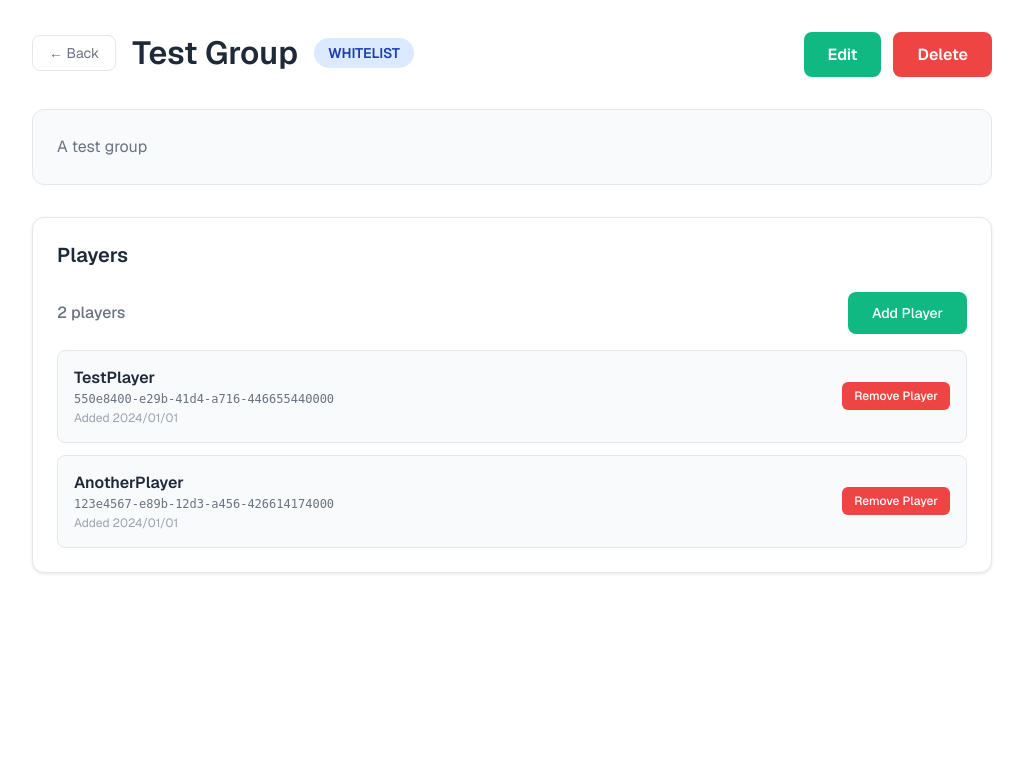
Test case: GroupDetailPage › Group Editing › should open edit modal
The width and height of the screenshot is (1024, 768).
Click the button "Edit" at (843, 54), box [804, 32, 882, 77]
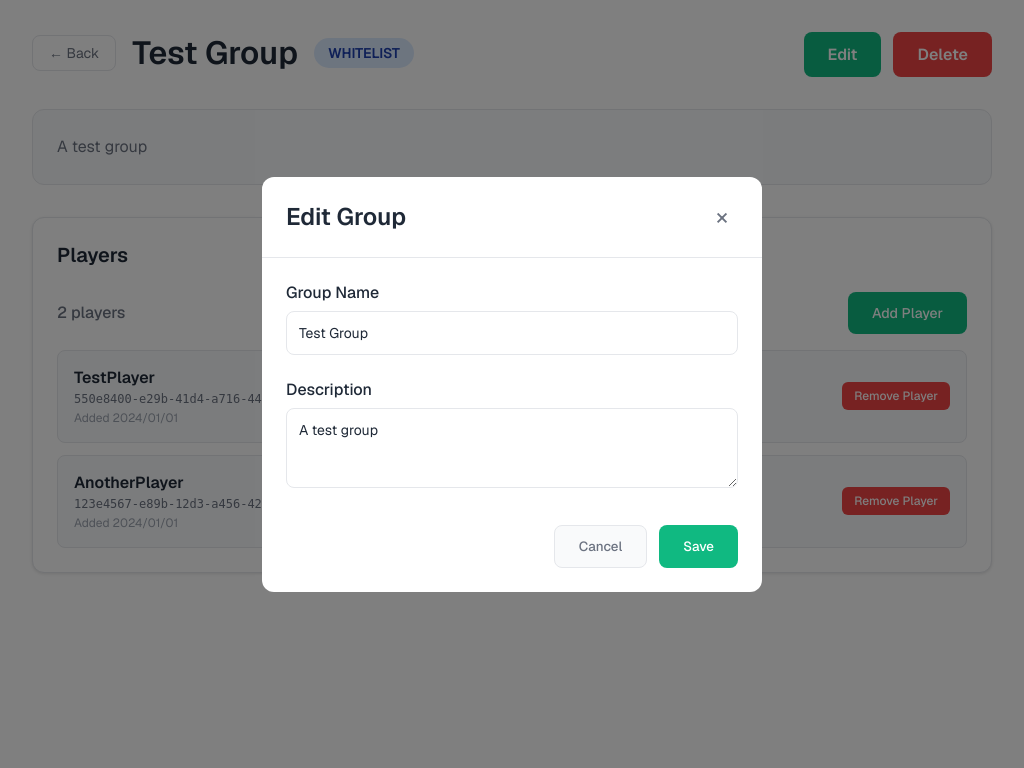
Now the heading "Edit Group" is shown, box [286, 201, 406, 232]
Now the field showing "Test Group" is shown, box [286, 310, 738, 354]
Now the text box showing "A test group" is shown, box [286, 408, 738, 488]
